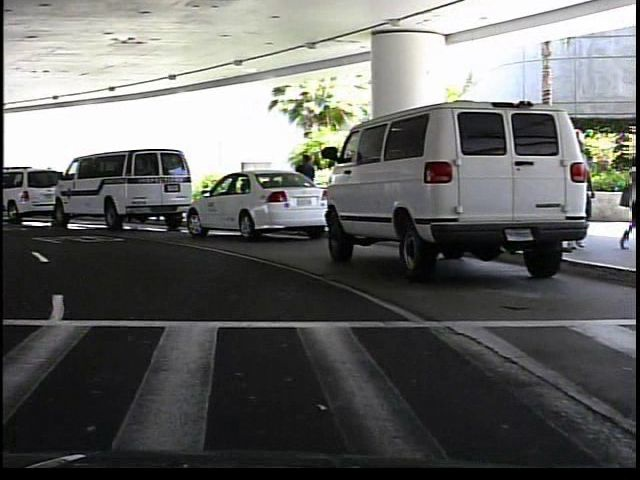person: (291, 149, 320, 222)
